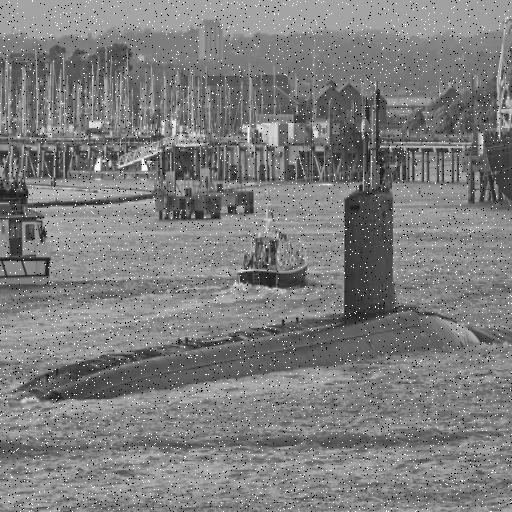submarine: (1, 182, 511, 413)
